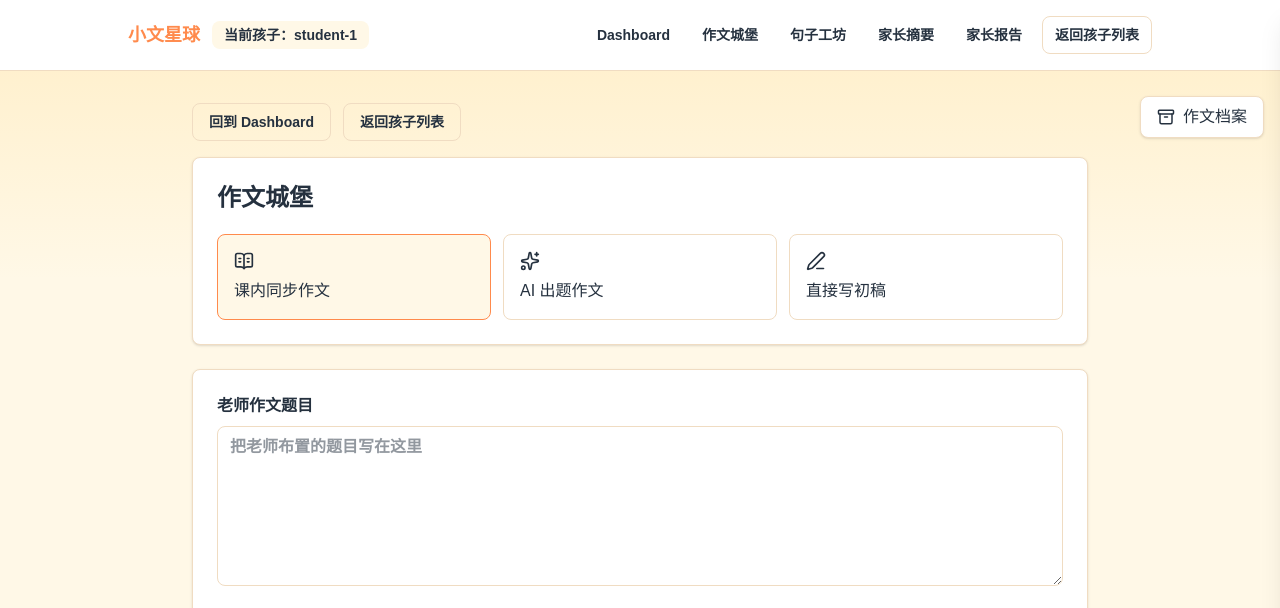
Test: selecting an archive item loads latest content and AI guidance into the revision editor
Click the button "作文档案" at (1202, 117), box [1140,96,1264,138]
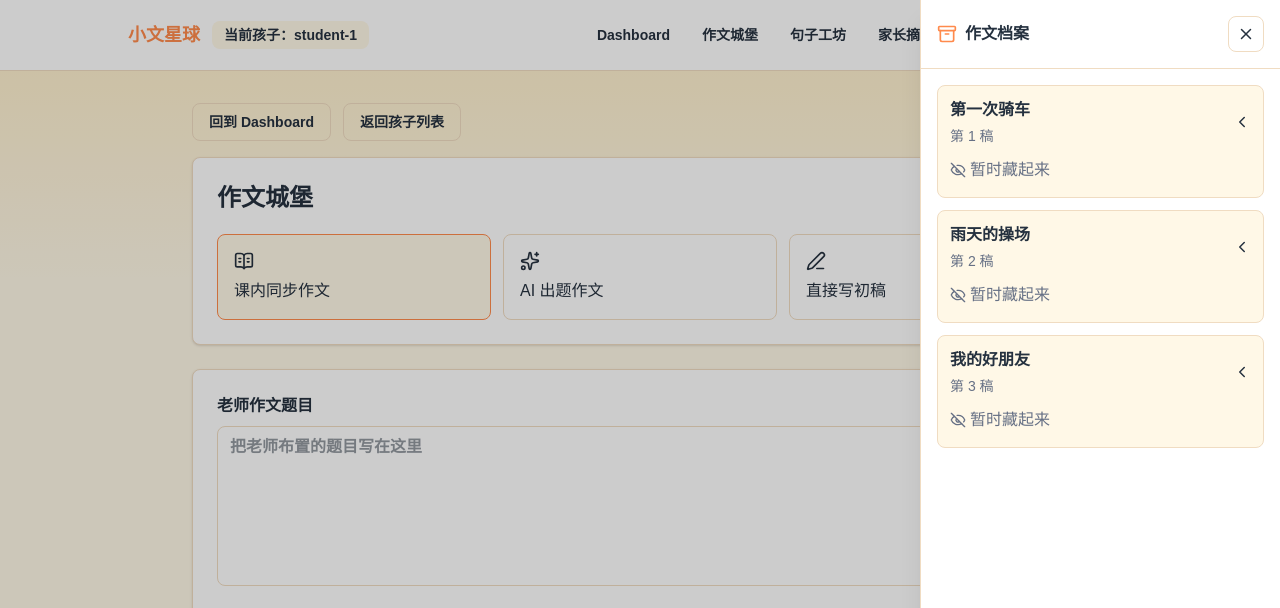
Click the button "雨天的操场 第 2 稿" at (990, 234), box [950,223,1251,271]
(page scrolled)
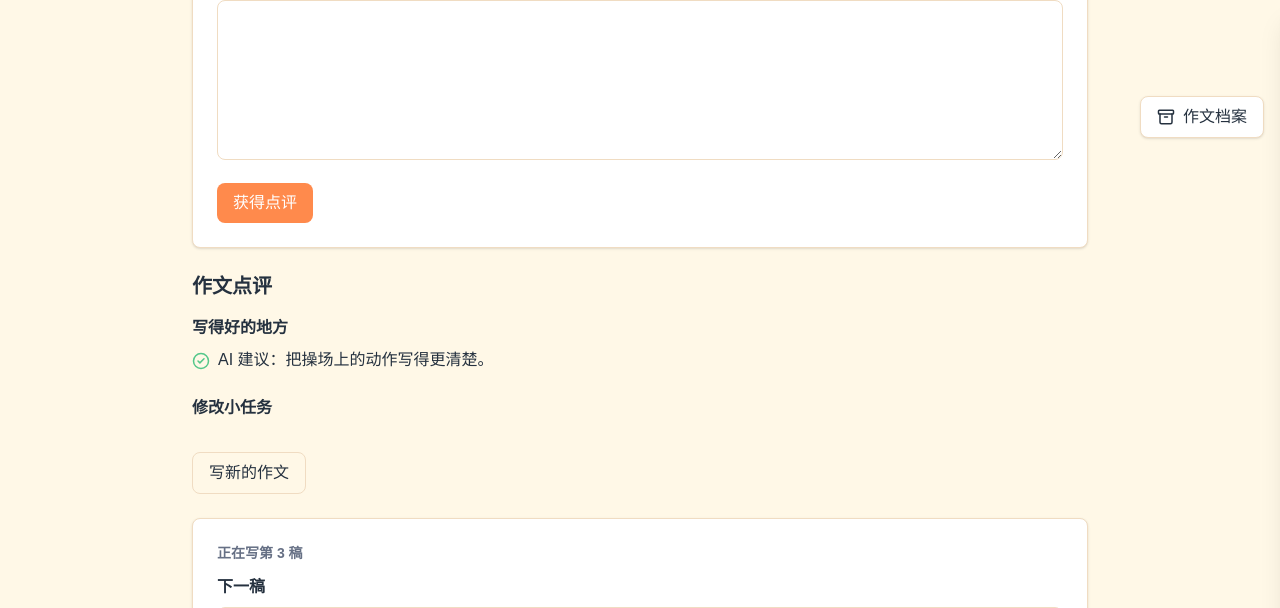
Expected: the text "AI 建议：把操场上的动作写得更清楚。" is shown, [218,348,494,372]
